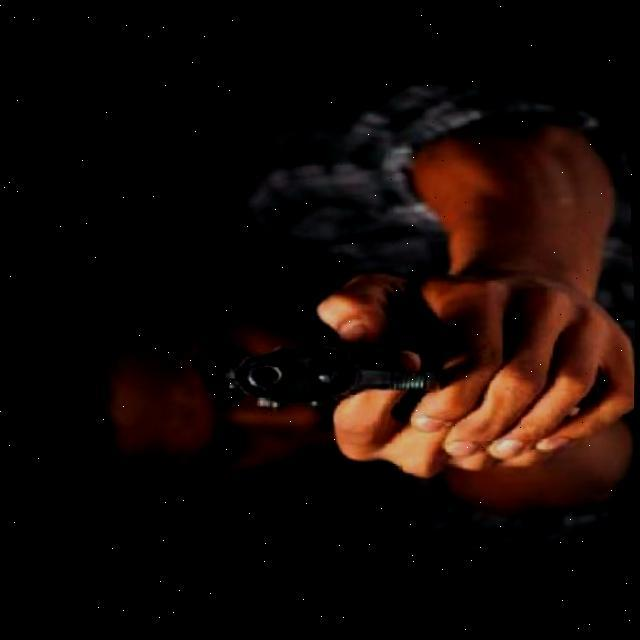gun: (220, 328, 454, 420)
